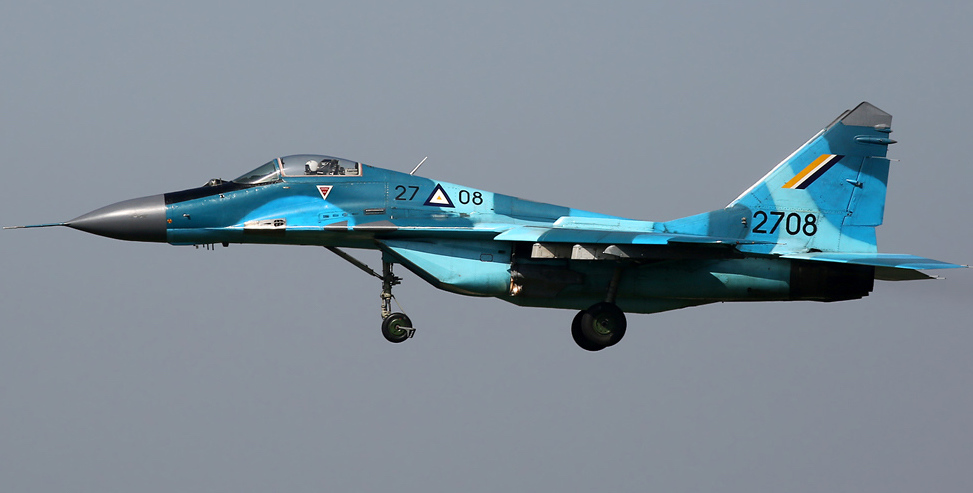Barma: (785, 147, 842, 196)
Mig-29: (56, 61, 944, 391)
